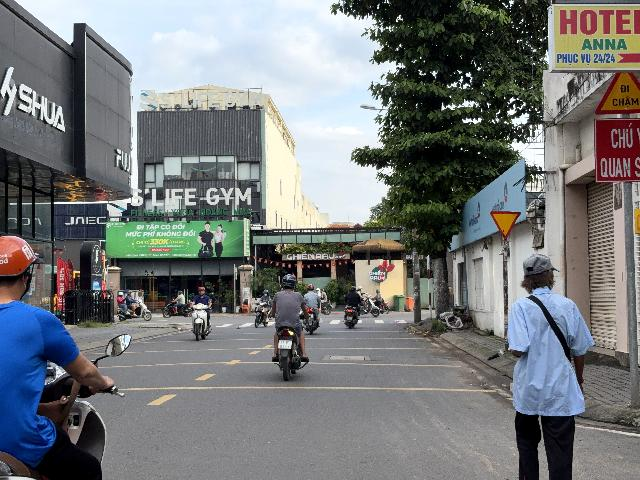giao-nhau-voi-duong-uu-tien: (489, 211, 522, 240)
